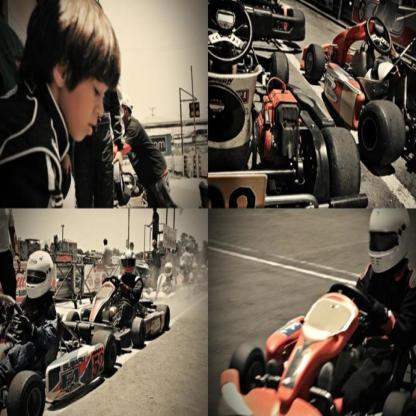Helmet: (368, 207, 412, 275), (24, 250, 54, 298), (120, 250, 138, 274), (163, 263, 174, 278), (178, 257, 187, 272), (199, 261, 206, 275), (191, 263, 198, 275)
